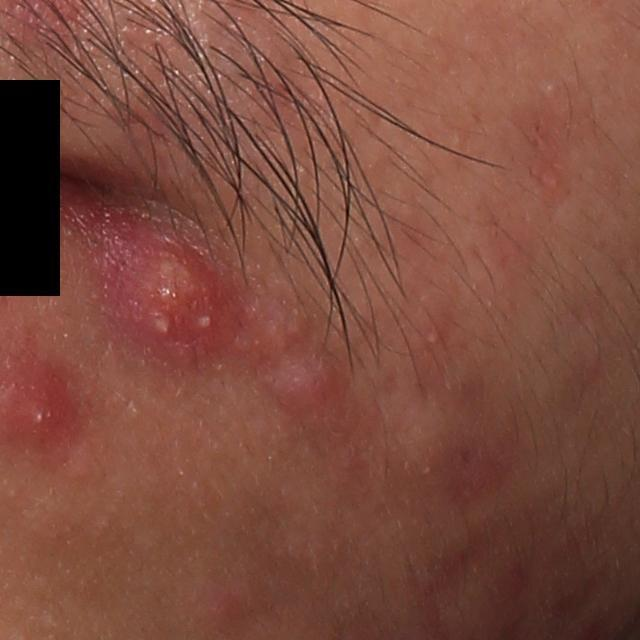hypertrophic_scar: (385, 389, 462, 477)
nodule: (81, 203, 250, 391)
papule: (259, 360, 344, 420)
